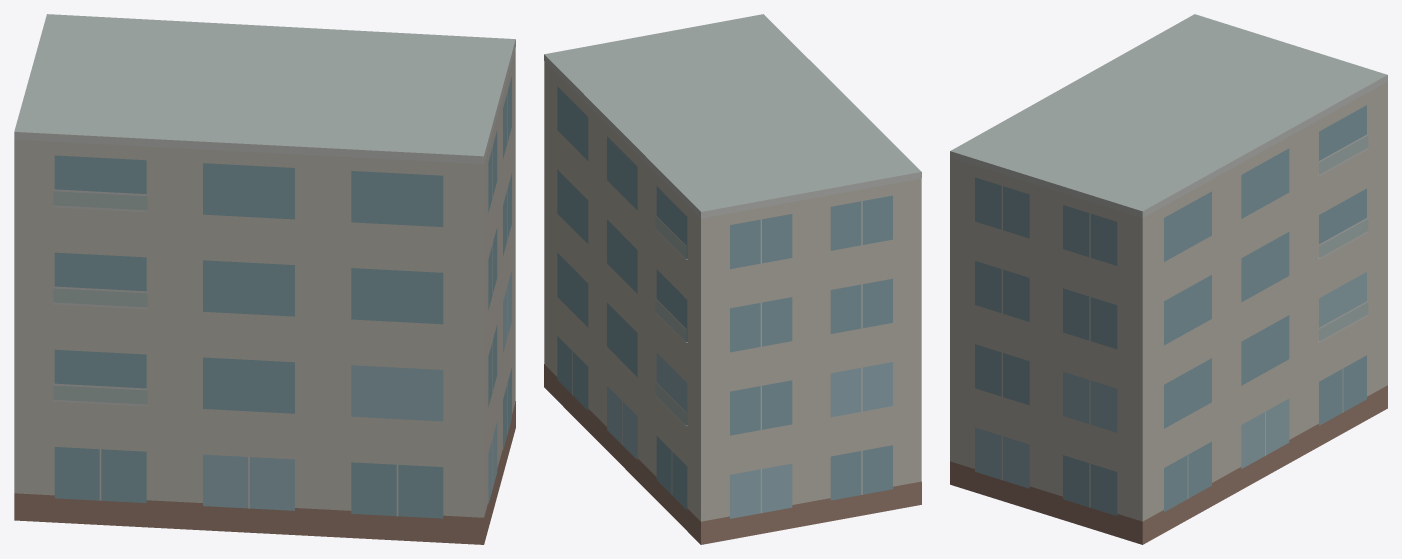
The model's file is survey-upis-33035092.glb.
3 renders of one model, left to right at view 1: azimuth 30°, elevation 25°; view 2: azimuth 150°, elevation 25°; view 3: azimuth 270°, elevation 25°, orthographic. The views are drawn at different scales.
Visible parts, largest first — view 1: survey-upis-33035092.tmp; view 2: survey-upis-33035092.tmp; view 3: survey-upis-33035092.tmp.
Part boxes in pixels (x1,y1,x2,y2): survey-upis-33035092.tmp: (14, 14, 515, 544); survey-upis-33035092.tmp: (544, 14, 921, 544); survey-upis-33035092.tmp: (950, 14, 1387, 544).
Bounding box in the file's own units: 15.49 × 12.2 × 14.52.
